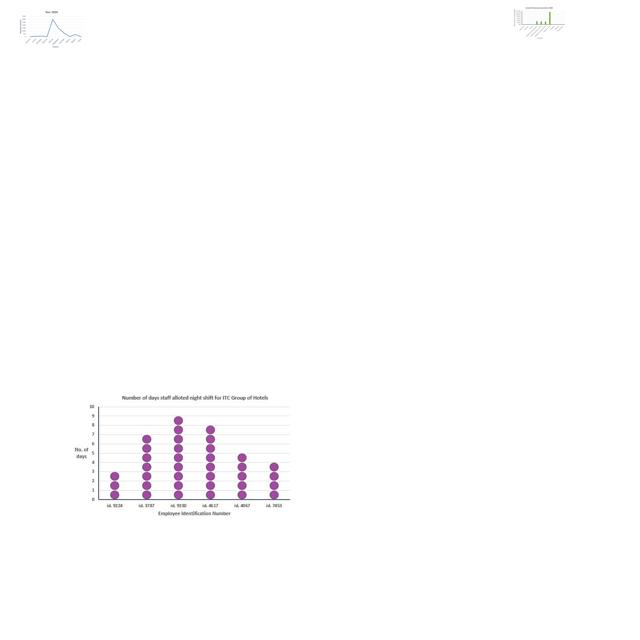Graph: (67, 392, 295, 521), (17, 9, 86, 50), (513, 6, 566, 40)
